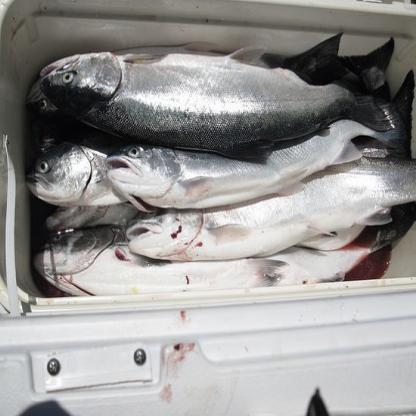fish: (37, 34, 397, 163), (104, 66, 414, 202), (22, 41, 394, 125), (37, 218, 397, 304), (29, 130, 412, 210), (121, 165, 416, 264)
